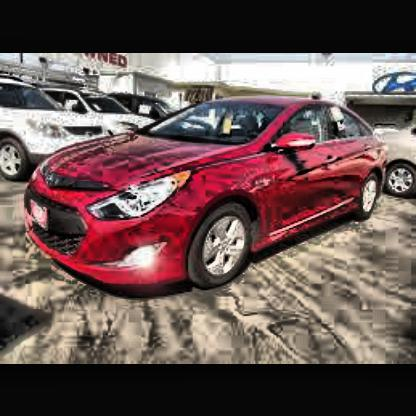Hyundai Sonata Hybrid Sedan 2012: (22, 96, 391, 298)
